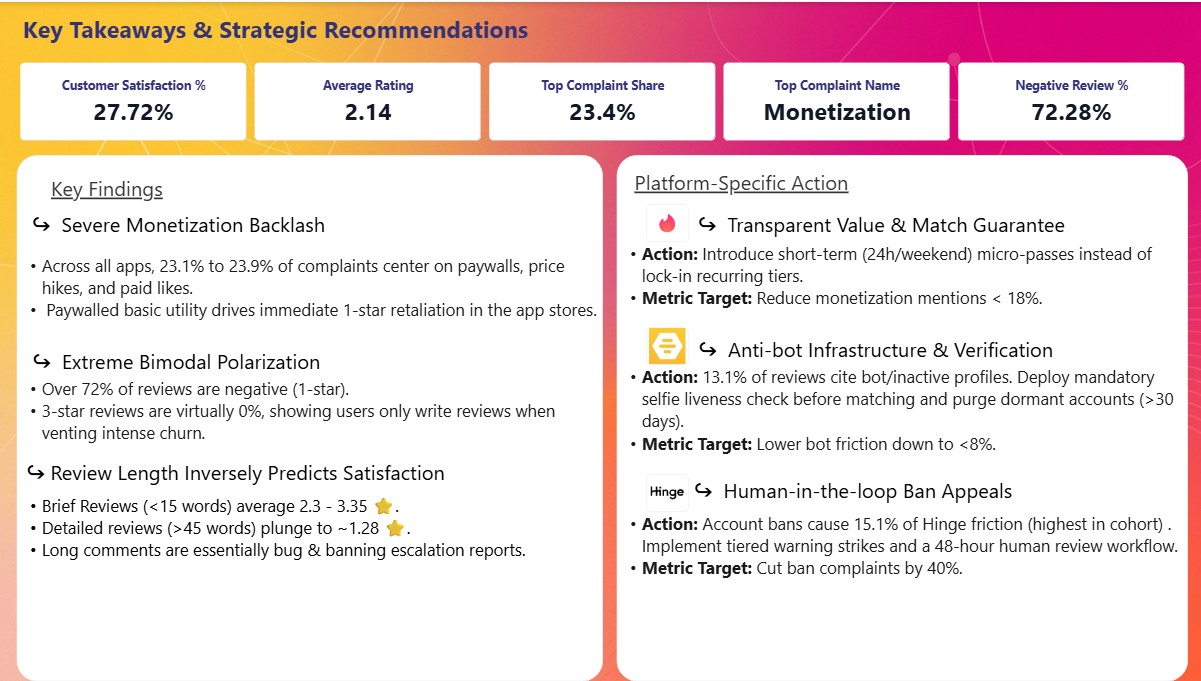

The page's visual inventory and layout, read from the dashboard file:
{"tool":"powerbi","page":{"name":"Key Takeaways & Strategic Recommendations","canvas":[1920,1080],"ordinal":2},"visuals":[{"type":"textbox","box":[31,16.7,909,74],"z":3000},{"type":"cardVisual","fields":{"Data":["Measures (2).Customer Satisfaction % (CSAT %)","Measures (2).Average Rating","Measures (2).Top Complaint Share","Measures (2).Top Complaint Name","Measures (2).Negative Review %"]},"box":[31,90.7,1863.4,136],"z":3001},{"type":"shape","box":[31,243.4,932.9,837.5],"z":3002},{"type":"shape","box":[985.4,243.4,909,837.5],"z":3003},{"type":"textbox","box":[31,331.6,870.9,69.2],"z":3004},{"type":"textbox","box":[1014,264.8,854.2,57.3],"z":3005},{"type":"textbox","box":[31,400.8,928.1,138.4],"z":3006},{"type":"textbox","box":[86.3,274.8,854.2,57.3],"z":3007},{"type":"textbox","box":[1092.7,753.9,804.1,57.3],"z":3008},{"type":"textbox","box":[31,782.6,928.1,128.8],"z":3009},{"type":"textbox","box":[31,725.3,870.9,57.3],"z":3010},{"type":"textbox","box":[31,596.5,928.1,128.8],"z":3011},{"type":"textbox","box":[1090.4,331.6,804.1,69.2],"z":3012},{"type":"textbox","box":[41,549.2,870.9,57.3],"z":3014},{"type":"textbox","box":[985.4,577.4,909,176.6],"z":3015},{"type":"textbox","box":[985.4,381.7,909,131.2],"z":3016},{"type":"textbox","box":[1100.4,530.1,804.1,57.3],"z":3017},{"type":"textbox","box":[985.4,811.2,909,176.6],"z":3018},{"type":"image","box":[1033.1,322.1,66.8,59.6],"z":3019},{"type":"image","box":[1033.1,517.7,66.8,59.6],"z":3020},{"type":"image","box":[1033.1,751.6,66.8,59.6],"z":3021}]}

Visuals, with their boxes in screenshot pixels (x1, y1, x2, y2), scaled from the page's 1920x1080 canvas onto the 1201x681 screenshot:
textbox: box=[19, 11, 588, 57]
cardVisual - Measures (2).Customer Satisfaction % (CSAT %) x Measures (2).Average Rating: box=[19, 57, 1185, 143]
shape: box=[19, 153, 603, 680]
shape: box=[616, 153, 1185, 680]
textbox: box=[19, 209, 564, 253]
textbox: box=[634, 167, 1169, 203]
textbox: box=[19, 253, 600, 340]
textbox: box=[54, 173, 588, 209]
textbox: box=[684, 475, 1186, 512]
textbox: box=[19, 493, 600, 575]
textbox: box=[19, 457, 564, 493]
textbox: box=[19, 376, 600, 457]
textbox: box=[682, 209, 1185, 253]
textbox: box=[26, 346, 570, 382]
textbox: box=[616, 364, 1185, 475]
textbox: box=[616, 241, 1185, 323]
textbox: box=[688, 334, 1191, 370]
textbox: box=[616, 512, 1185, 623]
image: box=[646, 203, 688, 241]
image: box=[646, 326, 688, 364]
image: box=[646, 474, 688, 512]
